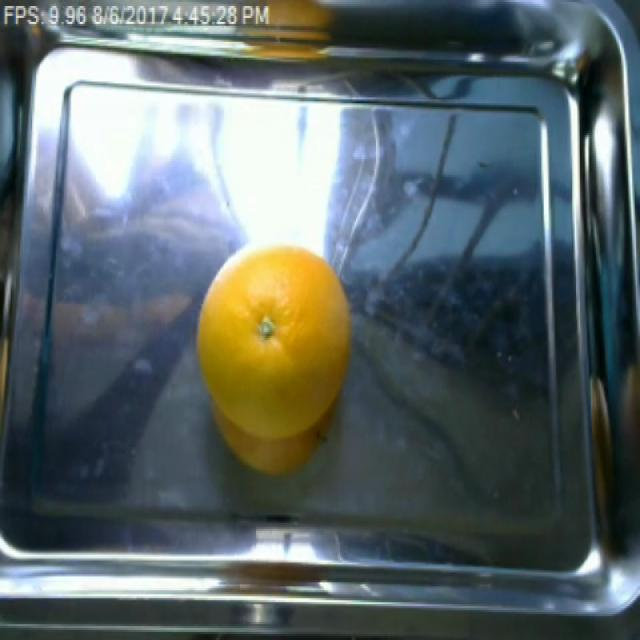Fruit: (189, 241, 360, 477)
